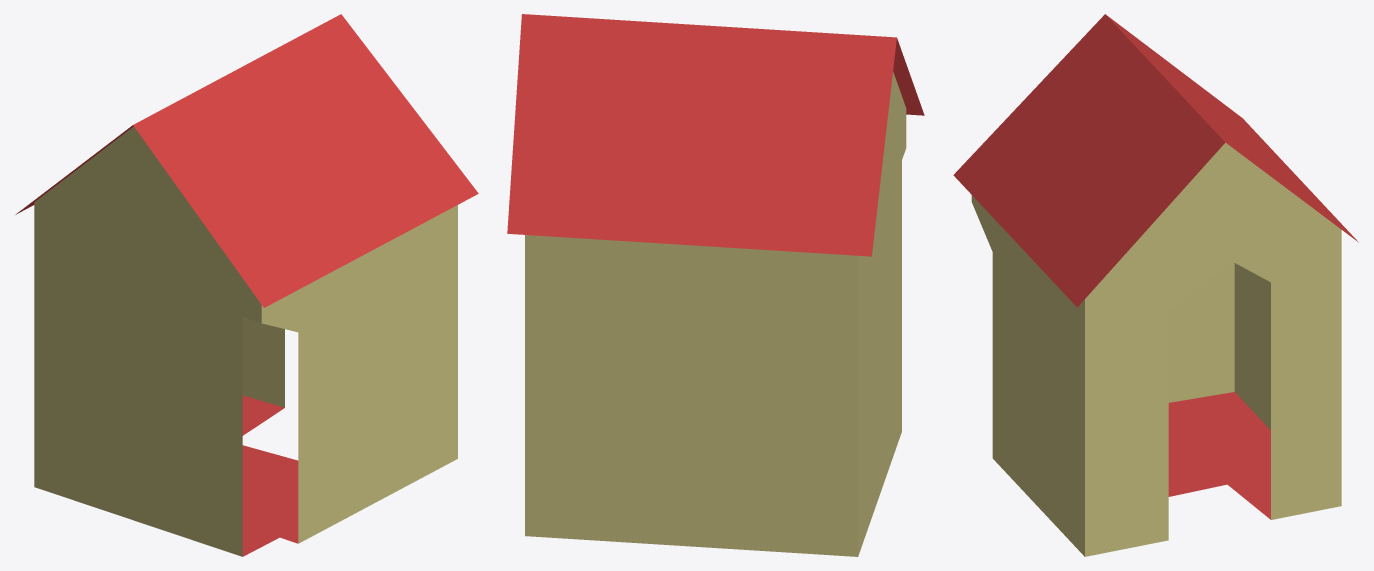
3 views of the same model, side by side, from view 1: azimuth 30°, elevation 25°; view 2: azimuth 150°, elevation 25°; view 3: azimuth 270°, elevation 25° (orthographic). The views are drawn at different scales.
Bounding box in the file's own units: 15.17 × 14.4 × 15.38.
